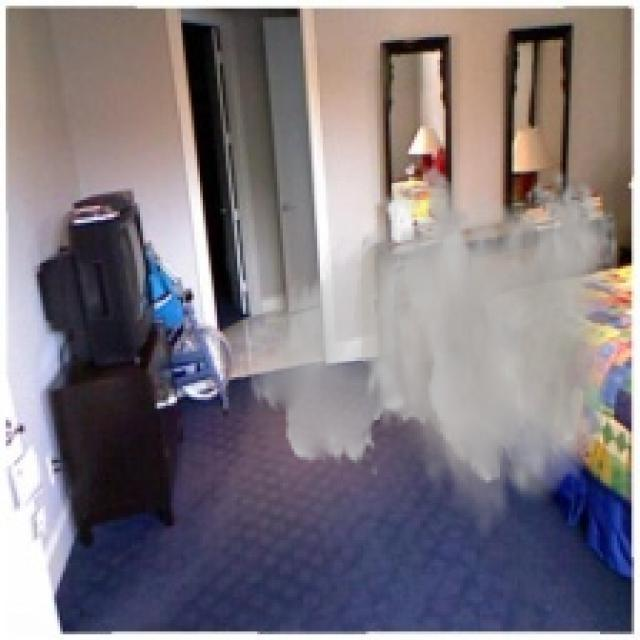Smoke: (237, 163, 620, 546)
